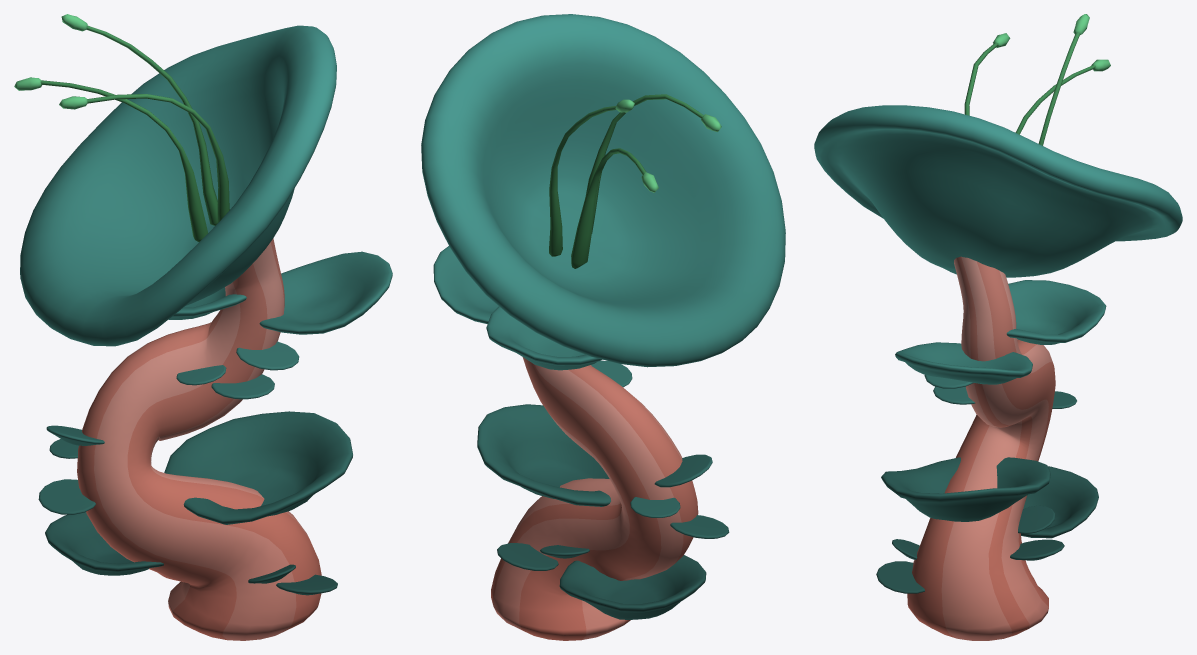
The model's file is CanoShroom1.fbx.
The picture shows the model from 3 angles, left to right: view 1: azimuth 30°, elevation 25°; view 2: azimuth 150°, elevation 25°; view 3: azimuth 270°, elevation 25°; orthographic projection. The views are drawn at different scales.
Visible parts, largest first — view 1: CanopyShroom1; view 2: CanopyShroom1; view 3: CanopyShroom1.
Boxes of the visible parts, <box> form: CanopyShroom1: <box>14,14,392,640</box>; CanopyShroom1: <box>421,14,785,640</box>; CanopyShroom1: <box>814,14,1182,640</box>.
Size of the model in its own units: 3450 by 6186 by 3700.
